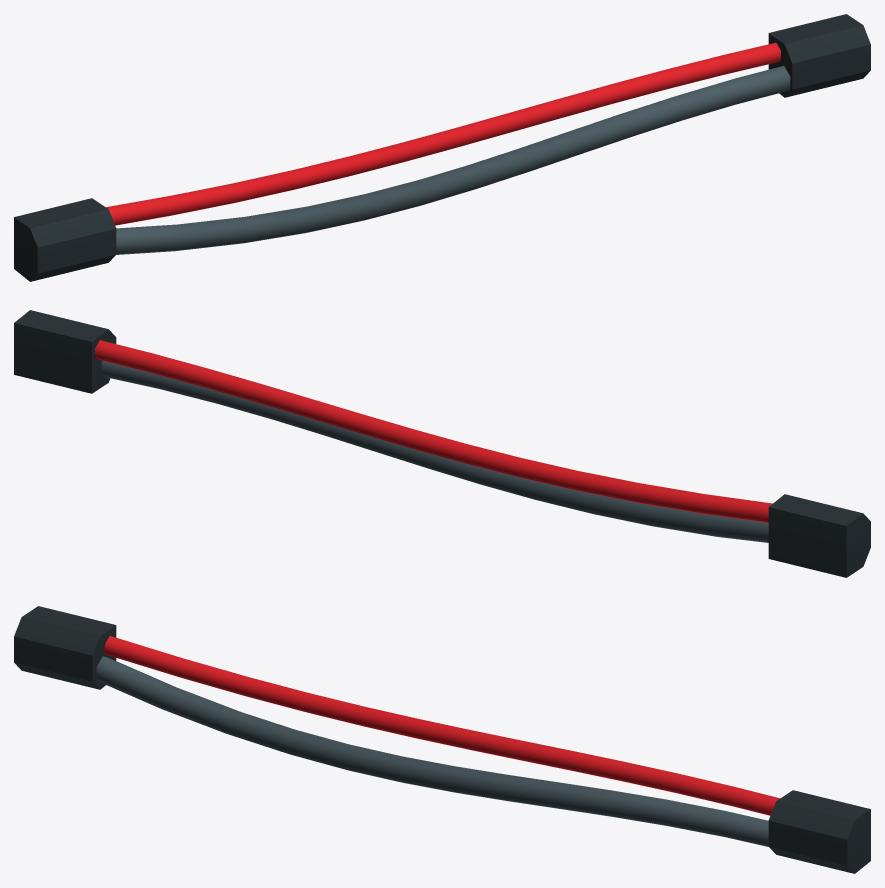
Rendered from Cable_type_A_001.fbx.
The picture shows the model from 3 angles, top to bottom: view 1: azimuth 30°, elevation 25°; view 2: azimuth 150°, elevation 25°; view 3: azimuth 330°, elevation 25°; orthographic projection.
Visible parts, largest first — view 1: Cable_type_A_001; view 2: Cable_type_A_001; view 3: Cable_type_A_001.
Boxes of the visible parts, x1=… form: Cable_type_A_001: x1=14, y1=14, x2=870, y2=281; Cable_type_A_001: x1=14, y1=310, x2=870, y2=577; Cable_type_A_001: x1=14, y1=606, x2=870, y2=873.
Size of the model in its own units: 166 by 9.29 by 13.32.
